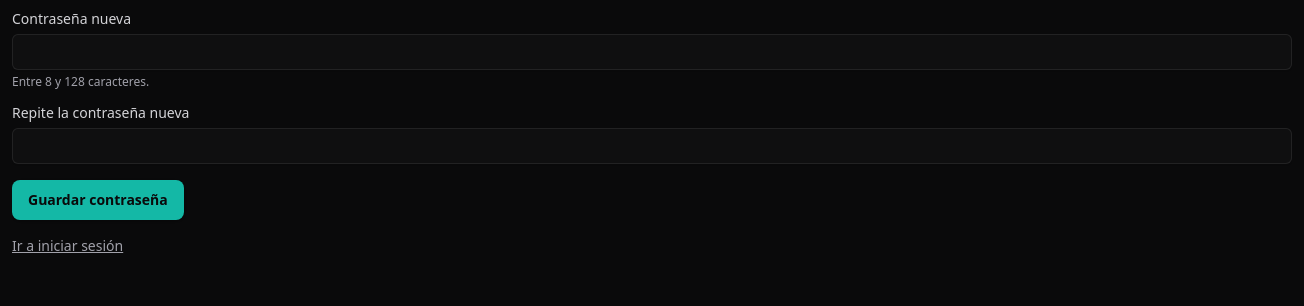
Test: ResetPasswordForm: con token válido › tras guardar con éxito bloquea el formulario y redirige a /sign-in
Type "abcdefgh" into the password field labelled "Contraseña nueva" at (652, 52), box [12, 34, 1292, 70]
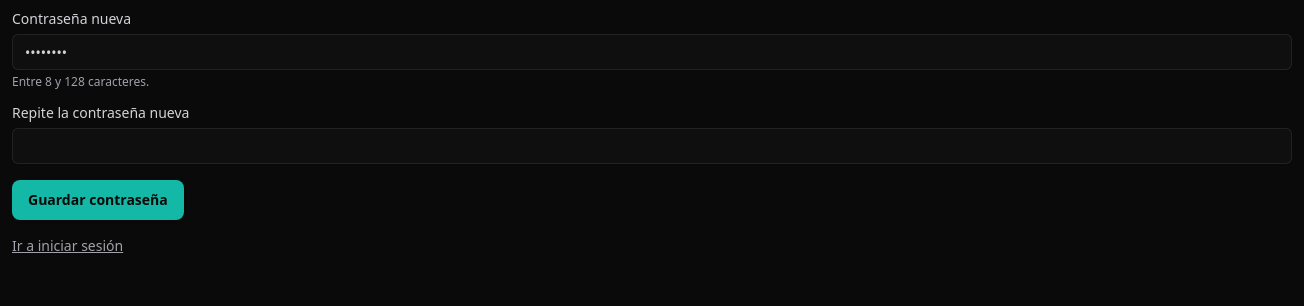
Type "abcdefgh" into the password field labelled "Repite la contraseña nueva" at (652, 146), box [12, 128, 1292, 164]
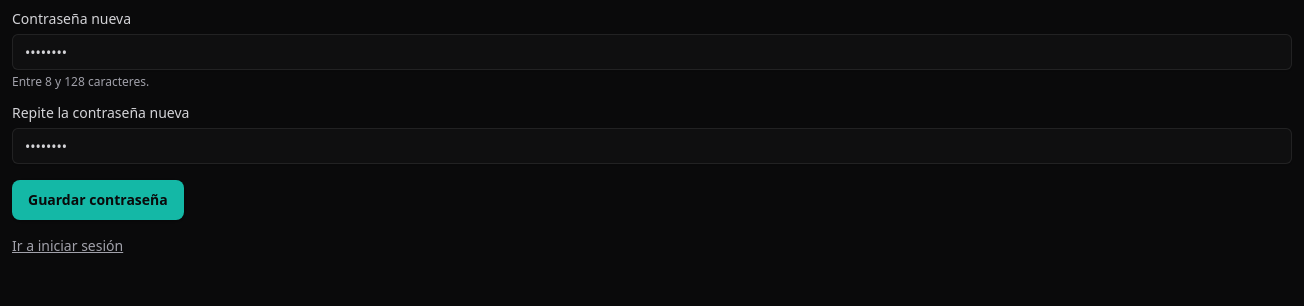
Submit the form
Wait 1300 ms
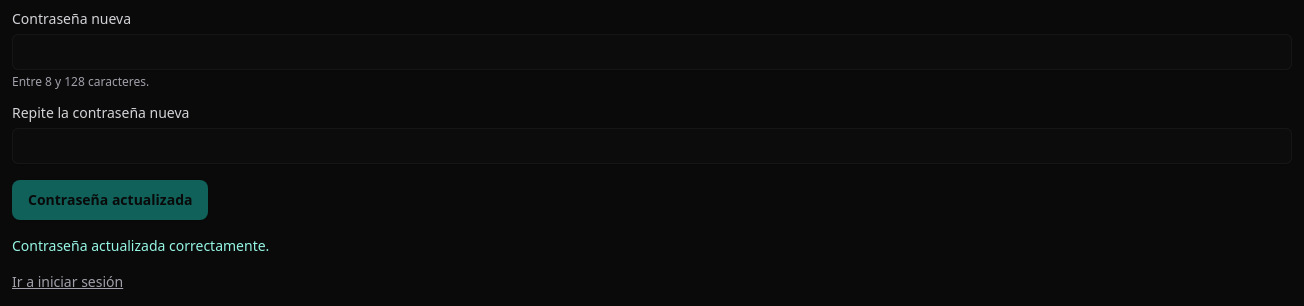
Expected: the message reads "Contraseña actualizada correctamente.", [12, 236, 269, 255]
Expected: the button "Contraseña actualizada" is disabled, [12, 180, 208, 220]
